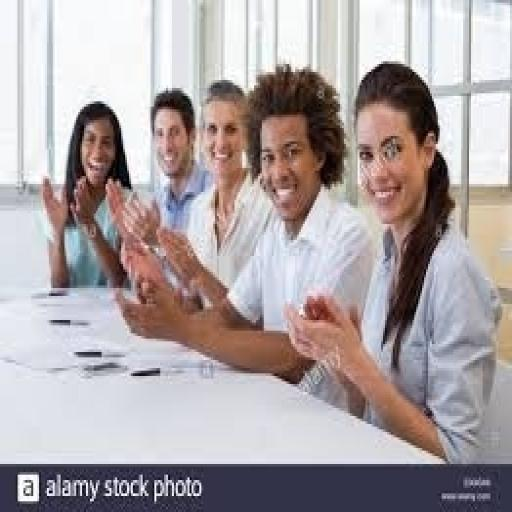clapping: (282, 59, 504, 464), (112, 62, 378, 398), (182, 77, 274, 307), (37, 98, 135, 290)
